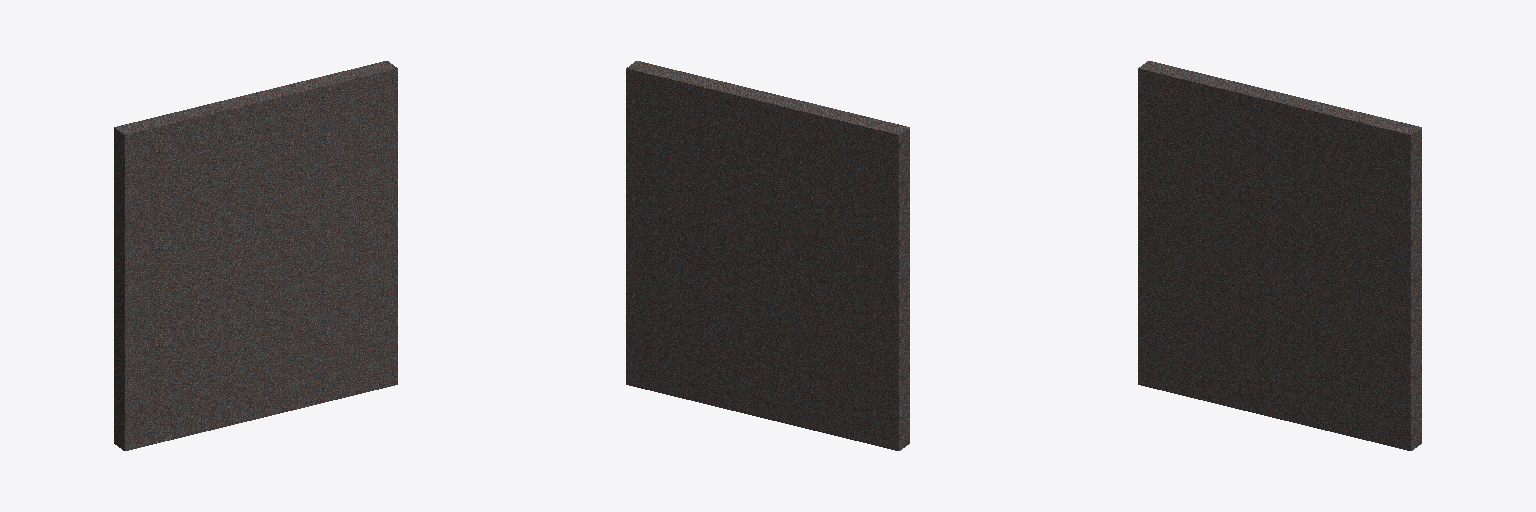
3 views of the same model, side by side, from view 1: azimuth 30°, elevation 25°; view 2: azimuth 150°, elevation 25°; view 3: azimuth 330°, elevation 25° (orthographic).
Parts seen in each view (by area): view 1: theatrewall; view 2: theatrewall; view 3: theatrewall.
Boxes of the visible parts, <box> form: theatrewall: <box>114,61,397,450</box>; theatrewall: <box>626,61,909,450</box>; theatrewall: <box>1138,61,1421,450</box>.
Bounding box in the file's own units: 14.74 × 16.31 × 1.
Materials: 1 (1 with a texture image).